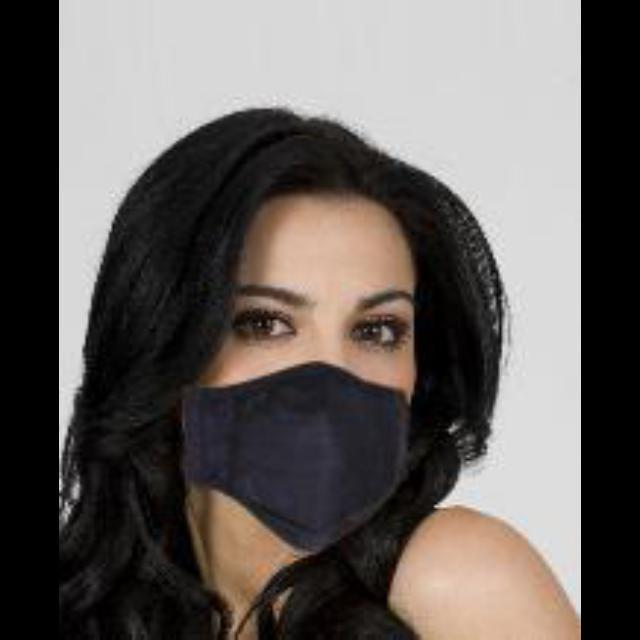suspicion: (166, 109, 468, 552)
